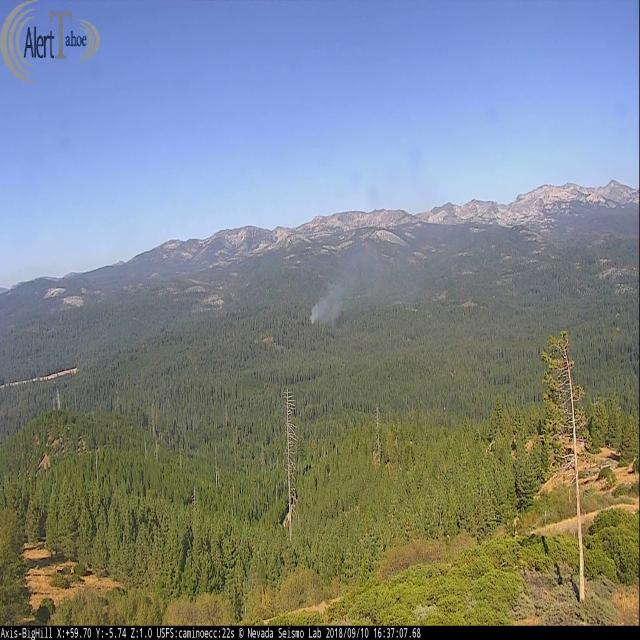smoke: (307, 154, 469, 326)
